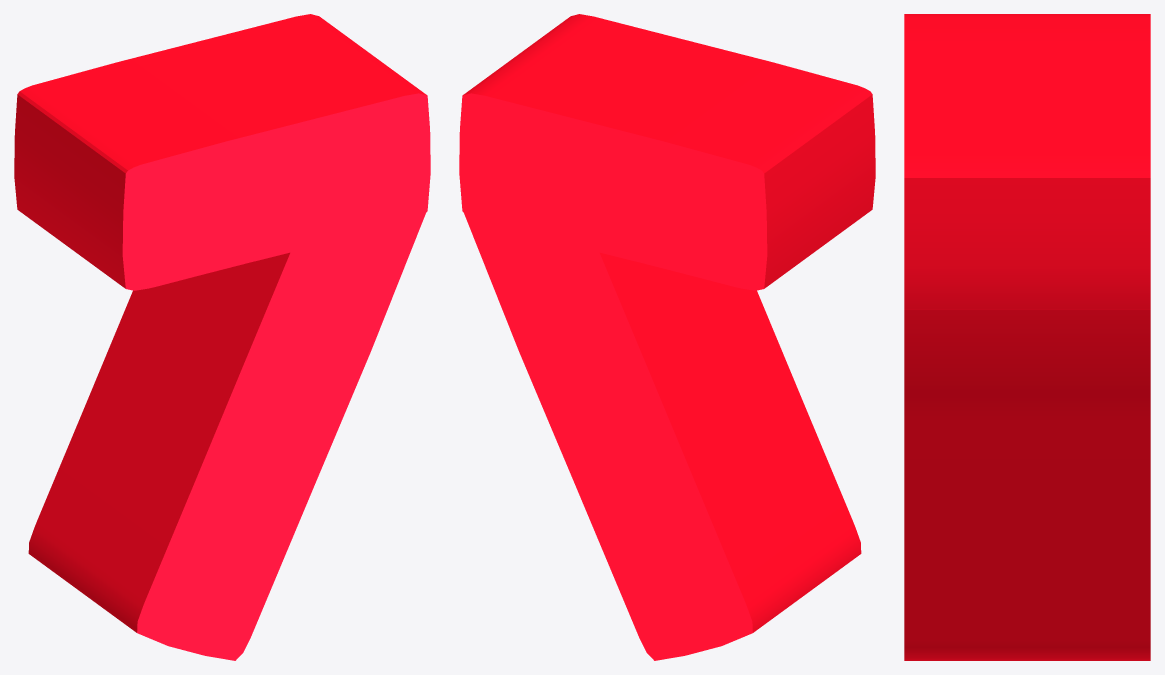
The model's file is b8a4b0e9-8f13-448c-9ce6-fe2d52b4adb6.glb.
The picture shows the model from 3 angles, left to right: view 1: azimuth 30°, elevation 25°; view 2: azimuth 150°, elevation 25°; view 3: azimuth 270°, elevation 25°; orthographic projection. The views are drawn at different scales.
Parts seen in each view (by area): view 1: 7_Zyzol_Red; view 2: 7_Zyzol_Red; view 3: 7_Zyzol_Red.
Boxes of the visible parts, x1,y1,x2,y2 form: 7_Zyzol_Red: (14, 14, 430, 660); 7_Zyzol_Red: (459, 14, 875, 660); 7_Zyzol_Red: (904, 14, 1150, 660).
Size of what is drawn, in the model's own units: 0.0738 by 0.12 by 0.045.
2 materials, 2 textured.
